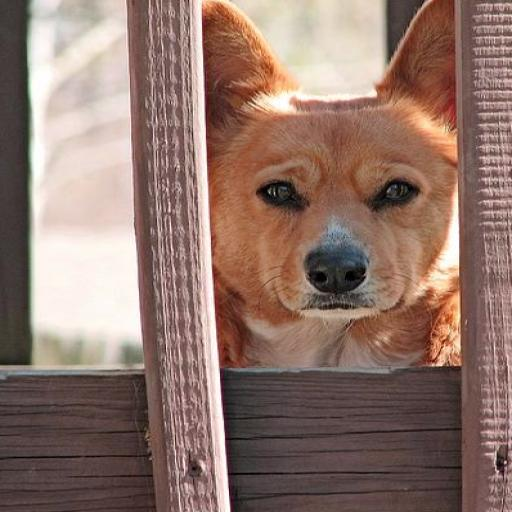dog_face: (190, 7, 504, 325)
